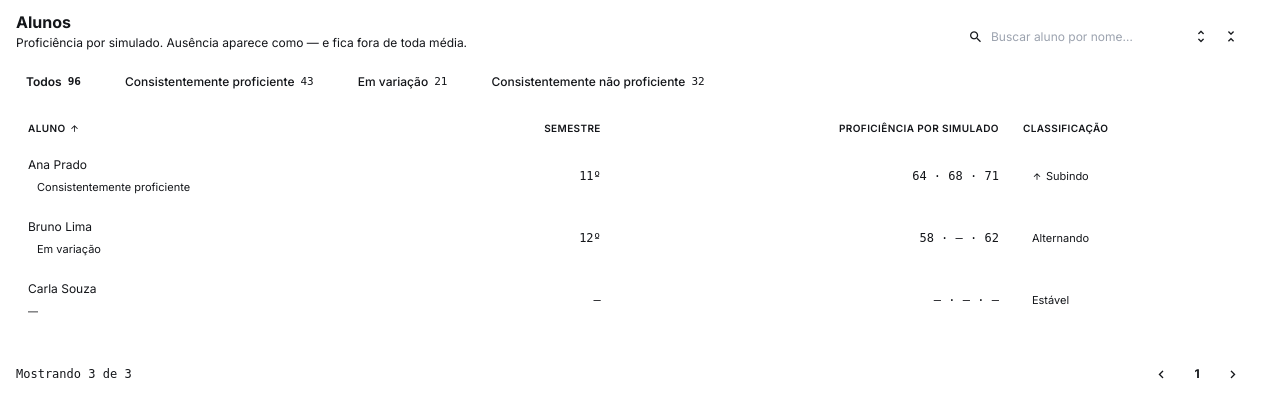
Test: TabelaAlunos › filtro por grupo de evolução › vazio com filtro ativo sugere ajustar o grupo, não só a busca/recorte
Click the button "Em variação 21".
click(397, 82)  # box [334,68,459,96]
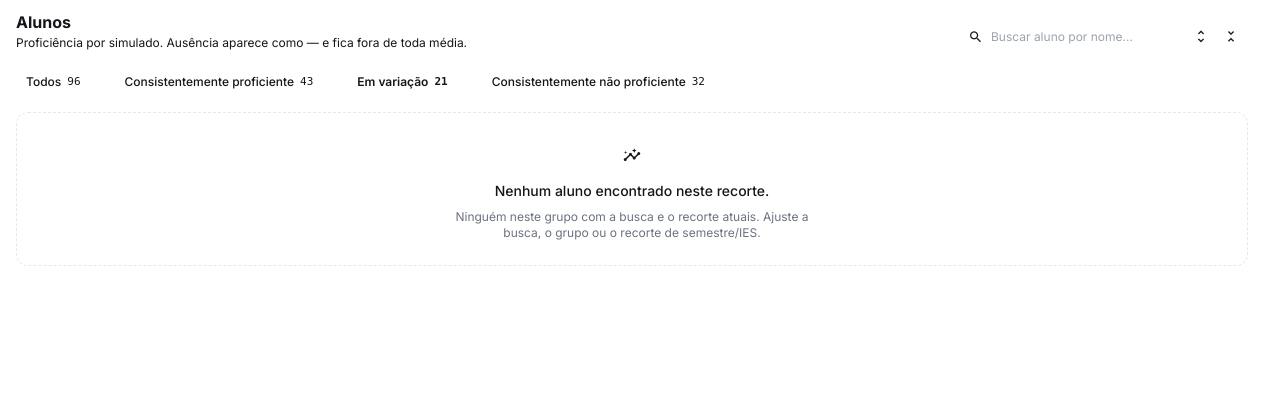
Check: the text "Ajuste a busca, o grupo ou o recorte" is shown, box [456,209,809,240]
